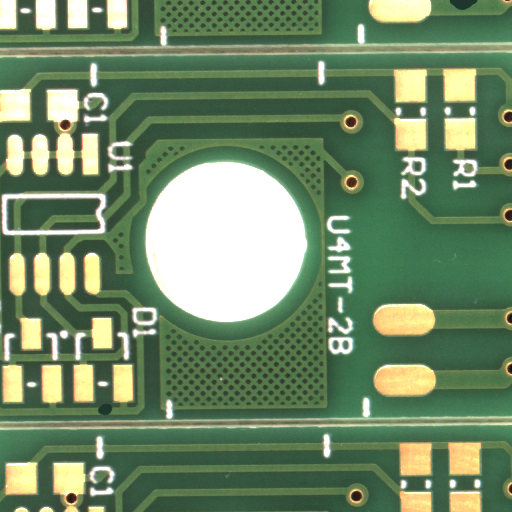Mouse_bite: (464, 4, 495, 14), (104, 409, 121, 420)
